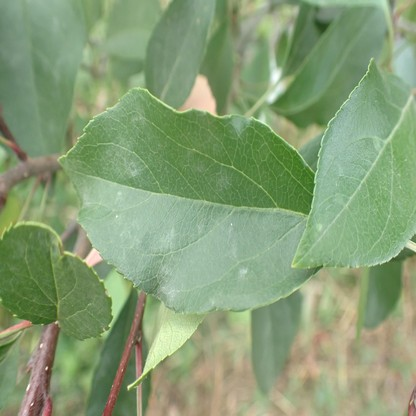powder: (1, 0, 71, 77), (101, 135, 138, 177), (157, 262, 175, 304), (152, 224, 175, 250), (232, 116, 251, 135), (9, 237, 27, 257), (215, 174, 229, 192), (130, 110, 144, 126), (82, 191, 92, 209), (194, 162, 204, 173), (239, 267, 247, 277)
